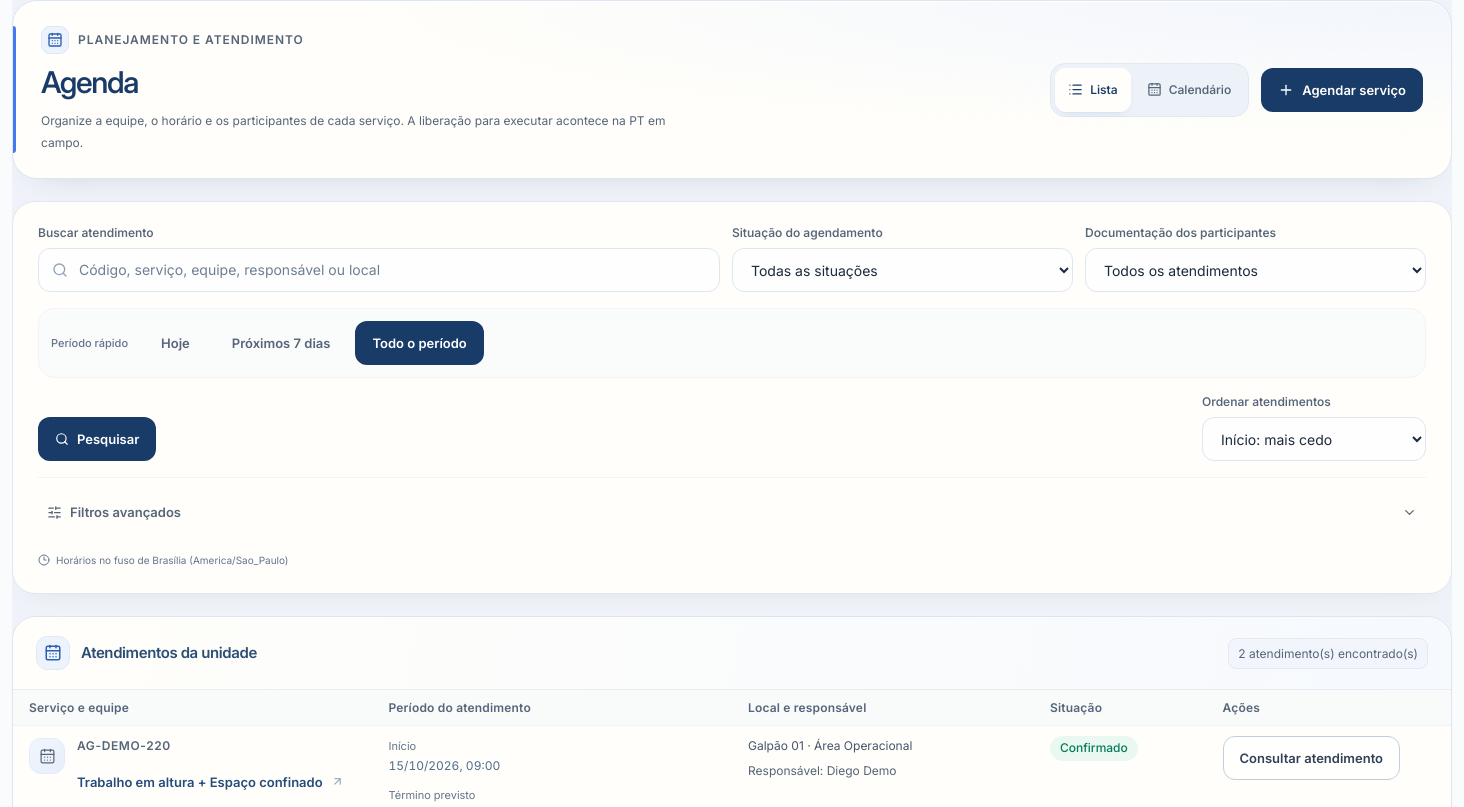
Scenario: AgendaPage — Visão de lista e calendário, múltiplos serviços e filtros (#102) › alterna para a visão de calendário e exibe a grade do mês e navegação
Expected: the text "Trabalho em altura + Espaço confinado" is shown, x1=77 y1=770 x2=323 y2=793
What coordinates should you click on to do the following:
click the button "Calendário"
I would click on:
 (1189, 90)
Its box is x1=1134 y1=68 x2=1244 y2=112.
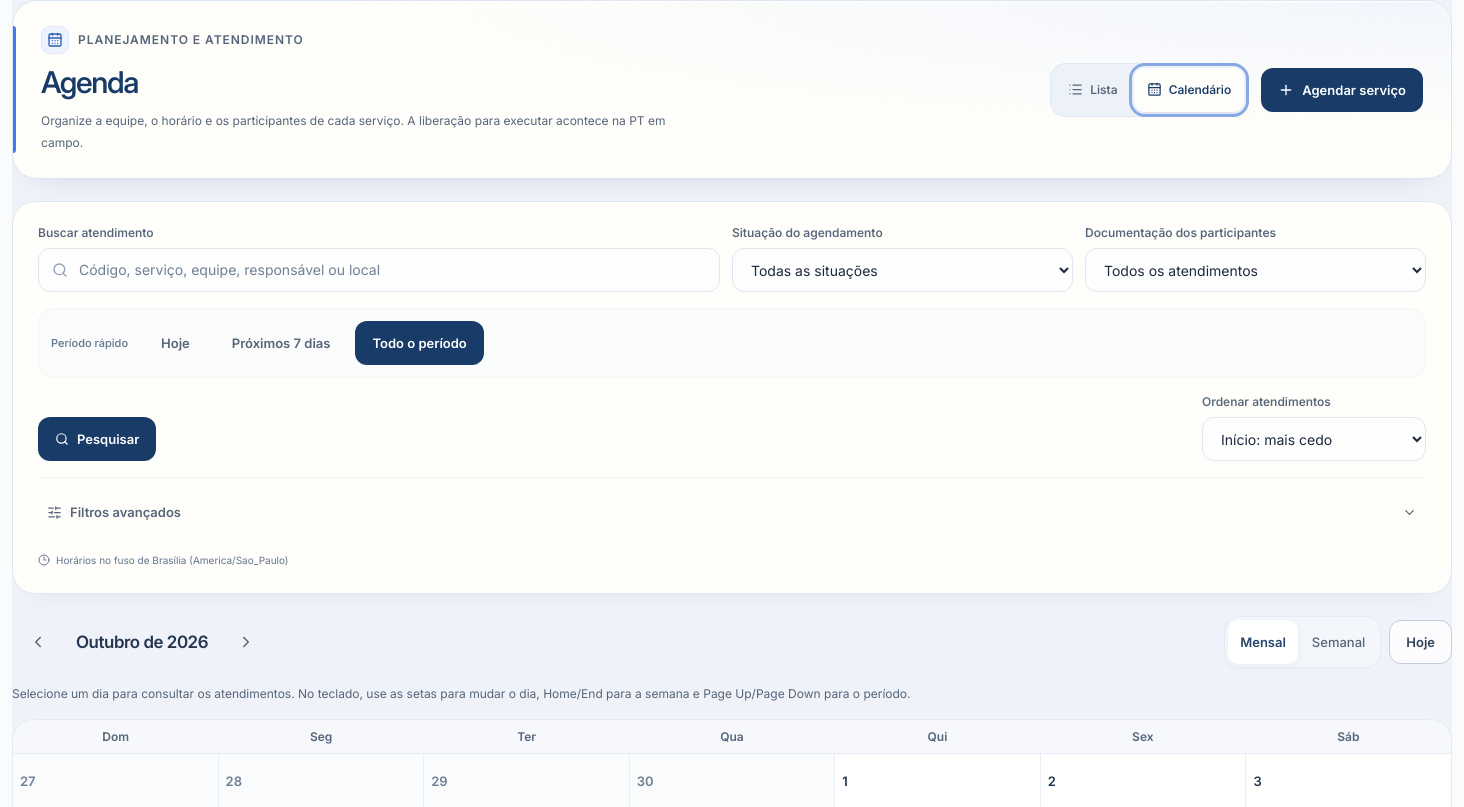
Expected: the button named "Mês anterior" is shown, x1=12 y1=620 x2=64 y2=664
Expected: the button named "Próximo mês" is shown, x1=220 y1=620 x2=272 y2=664
Expected: the button "Hoje" in the row of "Outubro de 2026" is shown, x1=1389 y1=620 x2=1452 y2=664
